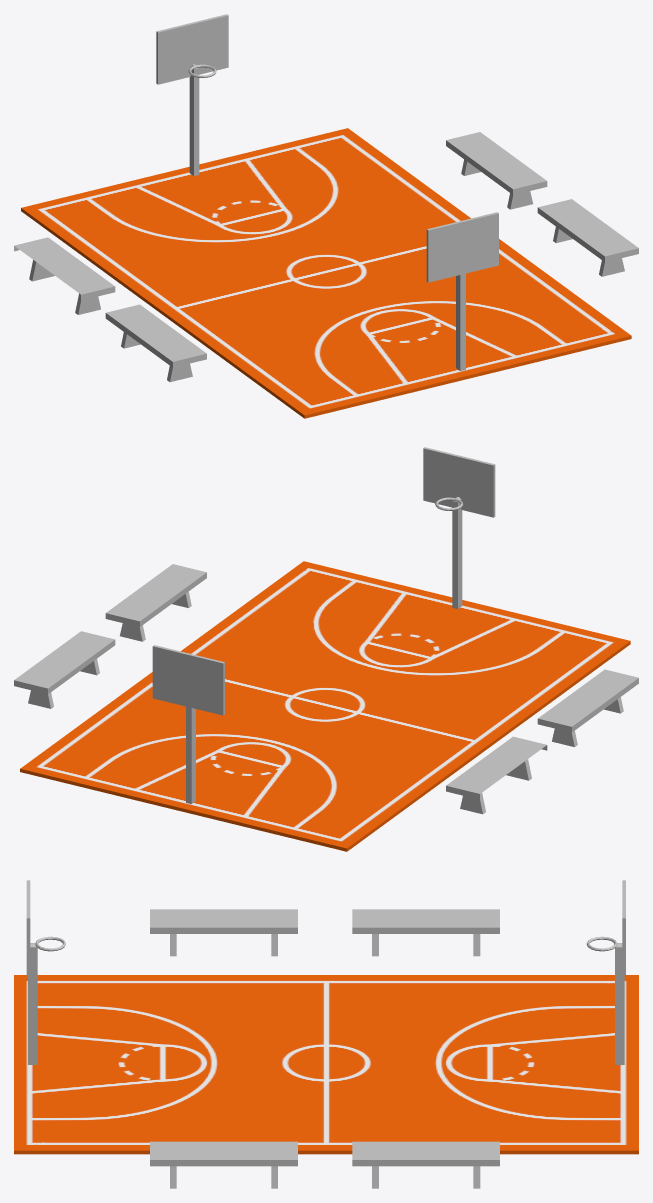
Rendered from Praca_2 (1).fbx.
3 renders of one model, top to bottom at view 1: azimuth 30°, elevation 25°; view 2: azimuth 150°, elevation 25°; view 3: azimuth 270°, elevation 25°, orthographic. The views are drawn at different scales.
Visible parts, largest first — view 1: Quadra, Cestas; view 2: Quadra, Cestas; view 3: Quadra, Cestas.
Part boxes in pixels (x1,y1,x2,y2): Quadra: (21,128,631,418); Cestas: (14,14,638,382); Quadra: (20,561,630,851); Cestas: (14,447,638,814); Quadra: (14,975,638,1154); Cestas: (26,880,625,1188).
Bounding box in the file's own units: 474 × 149 × 500.
